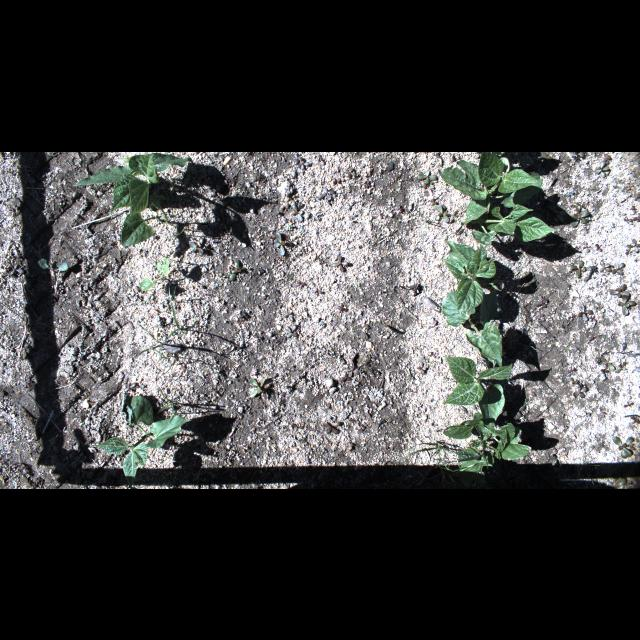crop: (72, 151, 192, 247), (93, 392, 191, 488), (438, 151, 542, 223), (442, 410, 532, 488), (443, 356, 512, 426), (440, 290, 502, 366), (442, 239, 502, 315), (471, 202, 557, 246)
weed: (398, 442, 466, 484), (162, 286, 198, 338), (140, 256, 170, 290), (137, 322, 167, 356), (272, 230, 294, 254), (568, 203, 590, 227), (617, 293, 637, 315), (612, 438, 632, 458), (566, 259, 588, 277), (38, 258, 68, 270), (249, 376, 265, 398), (290, 202, 306, 224), (418, 170, 438, 186), (332, 254, 348, 272), (592, 160, 608, 178), (573, 380, 589, 398), (316, 186, 336, 200), (608, 283, 628, 297), (284, 323, 300, 339), (612, 261, 626, 275), (624, 238, 638, 252), (436, 204, 448, 220), (598, 260, 612, 272), (232, 260, 240, 280), (213, 367, 219, 377), (287, 223, 293, 230)
